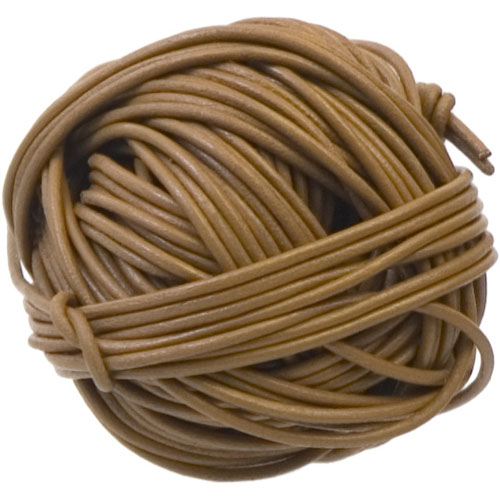Nonrec_Tangler: (9, 3, 489, 464)
